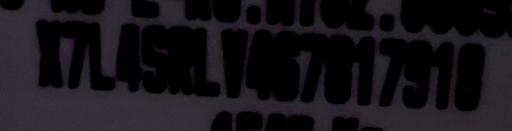letter: (452, 41, 488, 114), (293, 30, 329, 101), (28, 16, 64, 85), (374, 35, 408, 108), (114, 19, 146, 96), (400, 37, 434, 108), (217, 24, 249, 99), (243, 27, 275, 100), (165, 23, 195, 100), (271, 30, 303, 101), (323, 35, 355, 106), (428, 39, 460, 110), (140, 21, 170, 96), (86, 20, 116, 91), (349, 35, 379, 106), (192, 29, 222, 96), (62, 18, 88, 91)
